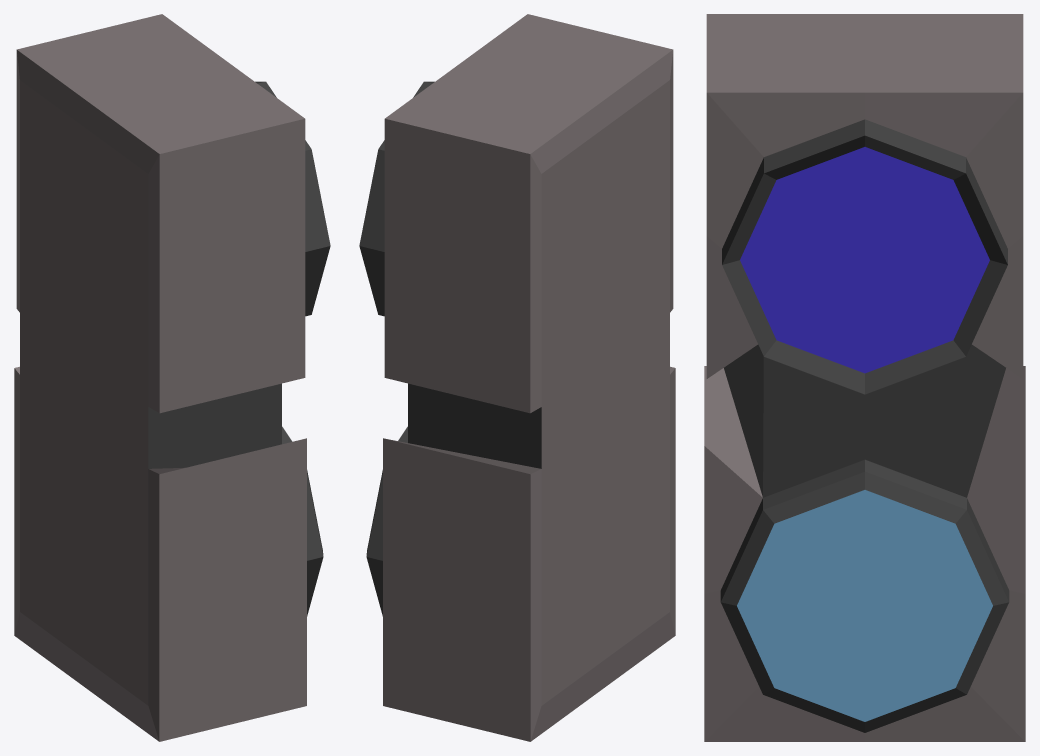
Rendered from lights.fbx.
The picture shows the model from 3 angles, left to right: view 1: azimuth 30°, elevation 25°; view 2: azimuth 150°, elevation 25°; view 3: azimuth 270°, elevation 25°; orthographic projection. The views are drawn at different scales.
Visible parts, largest first — view 1: Cube; view 2: Cube; view 3: Cube.
Boxes of the visible parts, box(x1,y1,x2,y2) form: Cube: box(14, 14, 330, 741); Cube: box(359, 14, 675, 741); Cube: box(704, 14, 1025, 741).
Size of the model in its own units: 549 by 1692 by 759.
